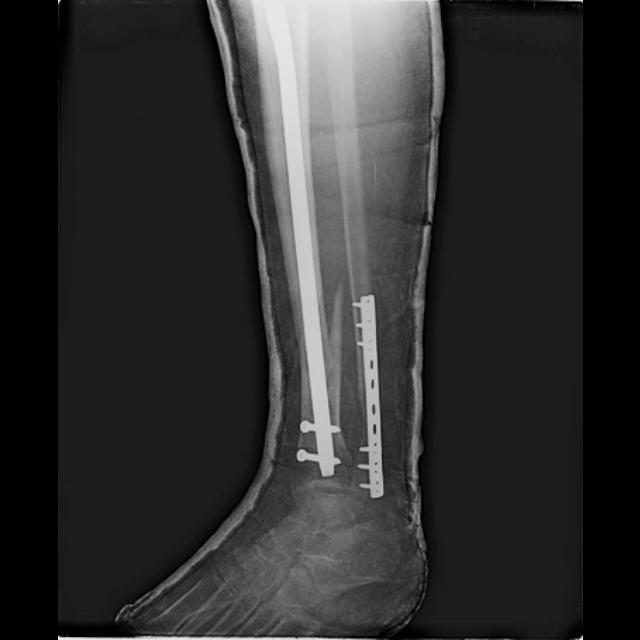Fracture: (293, 278, 341, 421), (357, 380, 368, 449)
